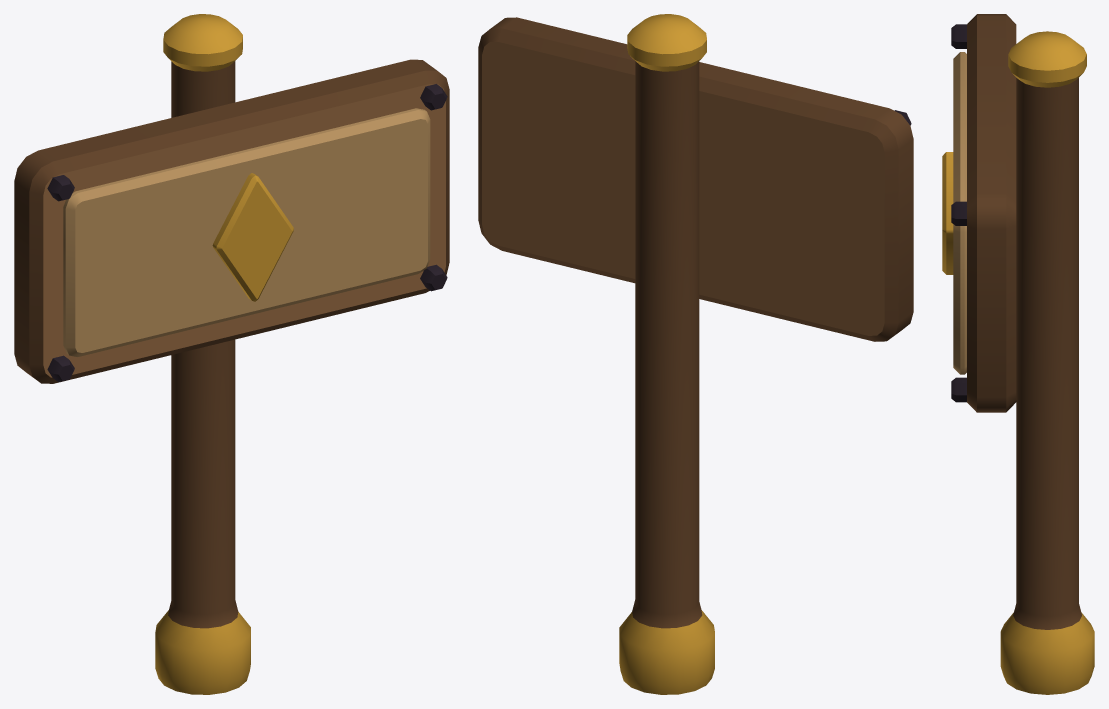
File: Sign_24.glb
3 views of the same model, side by side, from view 1: azimuth 30°, elevation 25°; view 2: azimuth 150°, elevation 25°; view 3: azimuth 270°, elevation 25° (orthographic). The views are drawn at different scales.
Parts seen in each view (by area): view 1: Sign_24; view 2: Sign_24; view 3: Sign_24.
Boxes of the visible parts, x1,y1,x2,y2 form: Sign_24: (14,14,449,694); Sign_24: (478,14,913,694); Sign_24: (942,14,1094,694).
Size of the model in its own units: 2.11 by 3.14 by 0.68.
